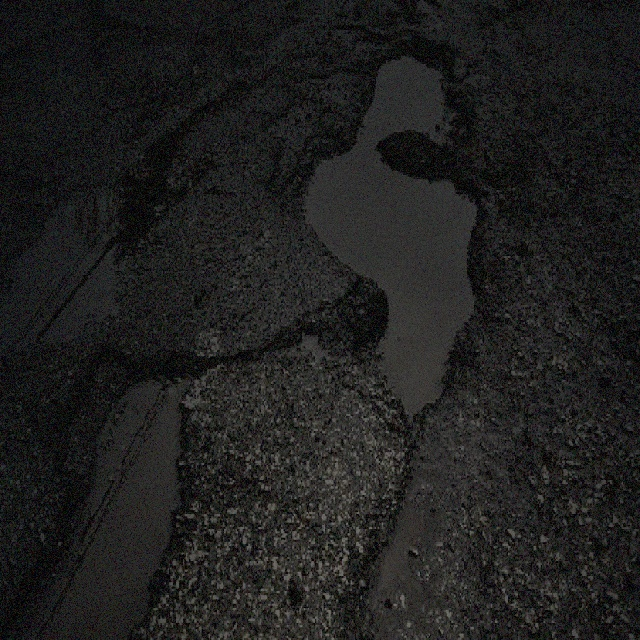pothole: (294, 28, 486, 426), (0, 341, 217, 638)
